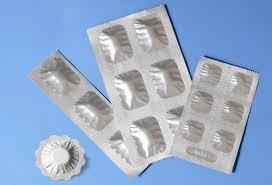pill_Strip: (87, 5, 190, 165), (29, 51, 144, 175), (172, 57, 258, 172)
